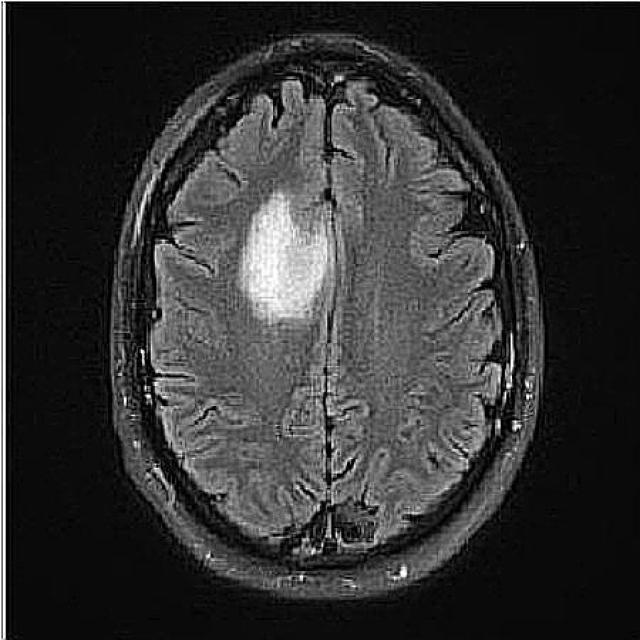Tumor-Cell: (224, 183, 339, 326)
